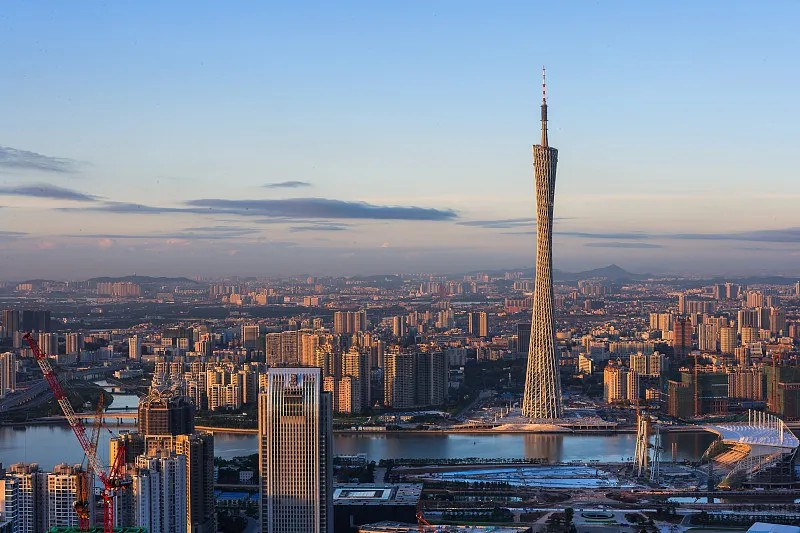Canton: (518, 63, 571, 421)
